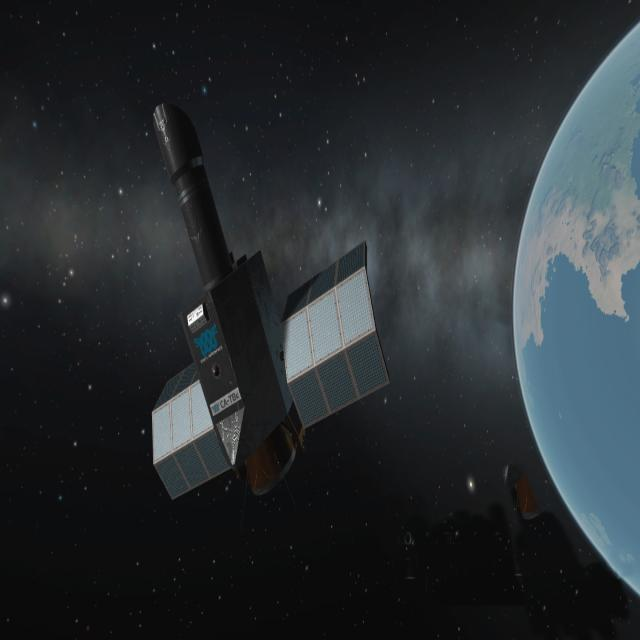satellite: (137, 90, 392, 526)
